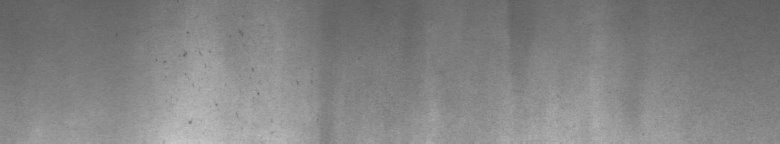ib: (156, 30, 244, 124)
